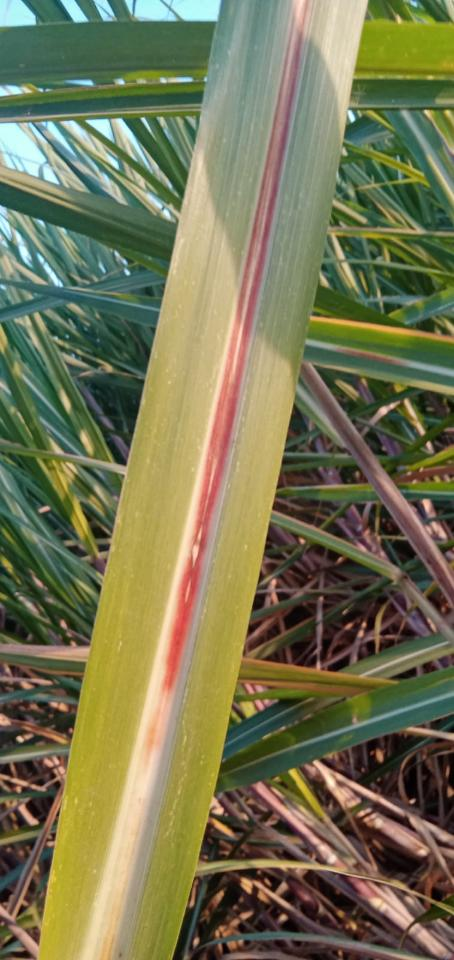RedRot: (162, 0, 312, 693), (335, 347, 410, 366)
